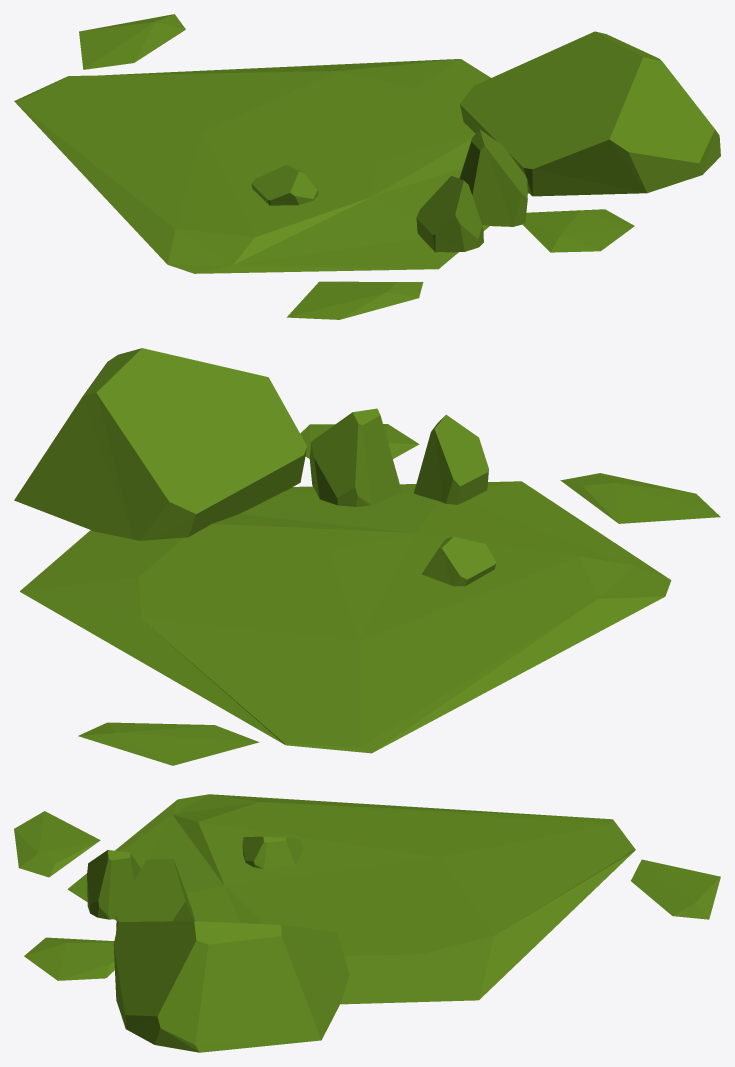
File: big_moss_04a.fbx
3 views of the same model, one above another, from view 1: azimuth 30°, elevation 25°; view 2: azimuth 150°, elevation 25°; view 3: azimuth 270°, elevation 25° (orthographic). The views are drawn at different scales.
Parts seen in each view (by area): view 1: big_moss_04; view 2: big_moss_04; view 3: big_moss_04.
Boxes of the visible parts, left/top/right/bottom form: big_moss_04: left=14, top=14, right=720, bottom=319; big_moss_04: left=14, top=348, right=720, bottom=765; big_moss_04: left=14, top=794, right=720, bottom=1052.
Size of the model in its own units: 8.37 by 1.46 by 9.65.
